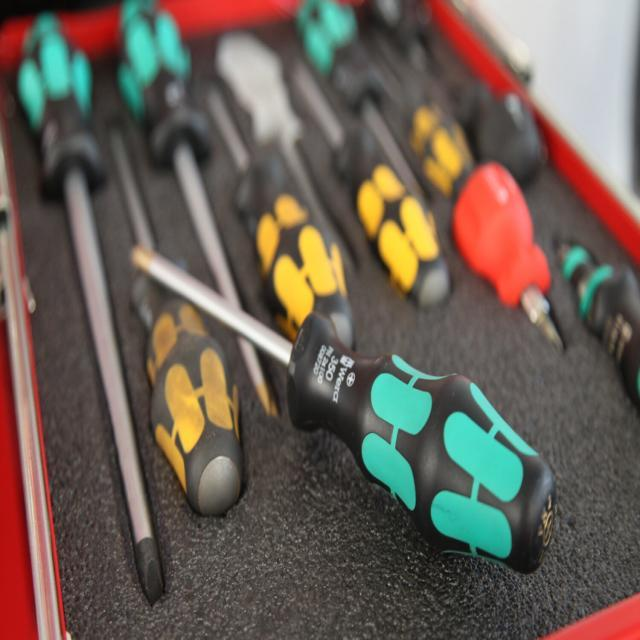screwdriver: (126, 241, 562, 576), (18, 4, 166, 616), (115, 0, 283, 425), (105, 116, 248, 536), (292, 56, 450, 312), (452, 151, 576, 360)
